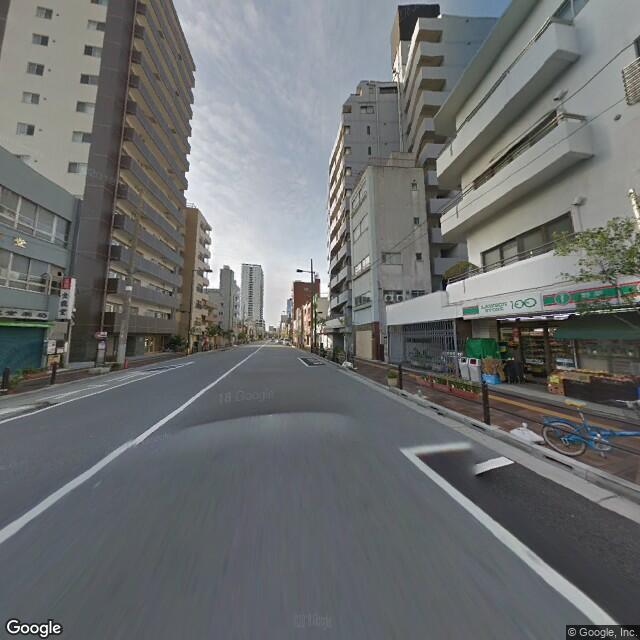lawson: (460, 269, 639, 321)
